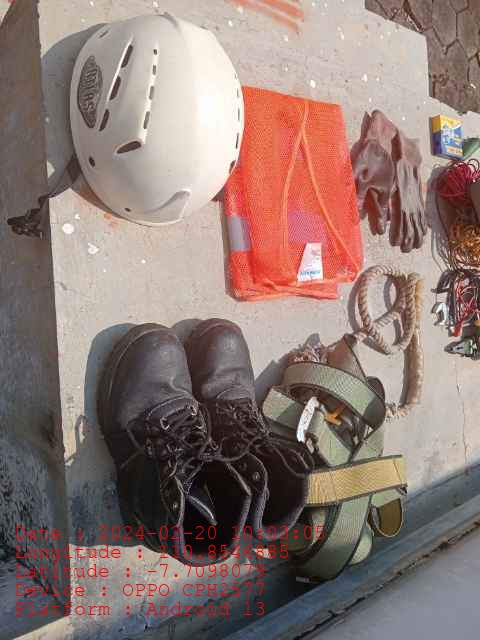HELM: (69, 13, 243, 225)
ROMPI: (241, 88, 362, 301)
TAMBANG_SLING: (358, 267, 426, 421)
